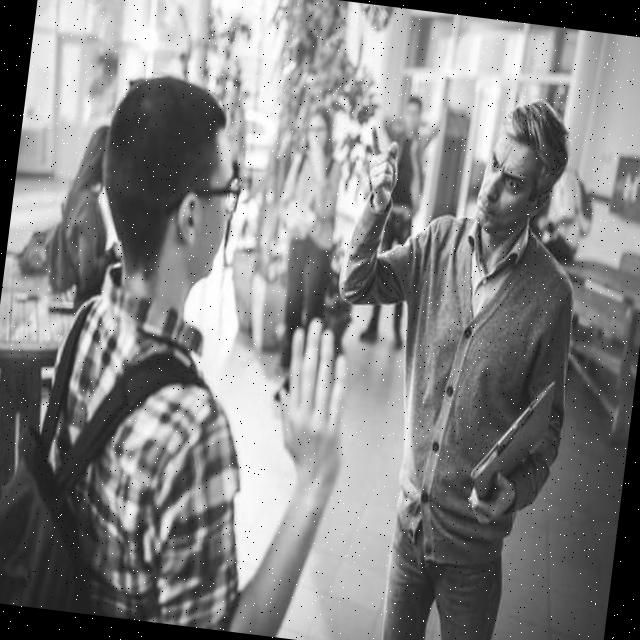Angry: (472, 132, 538, 232)
